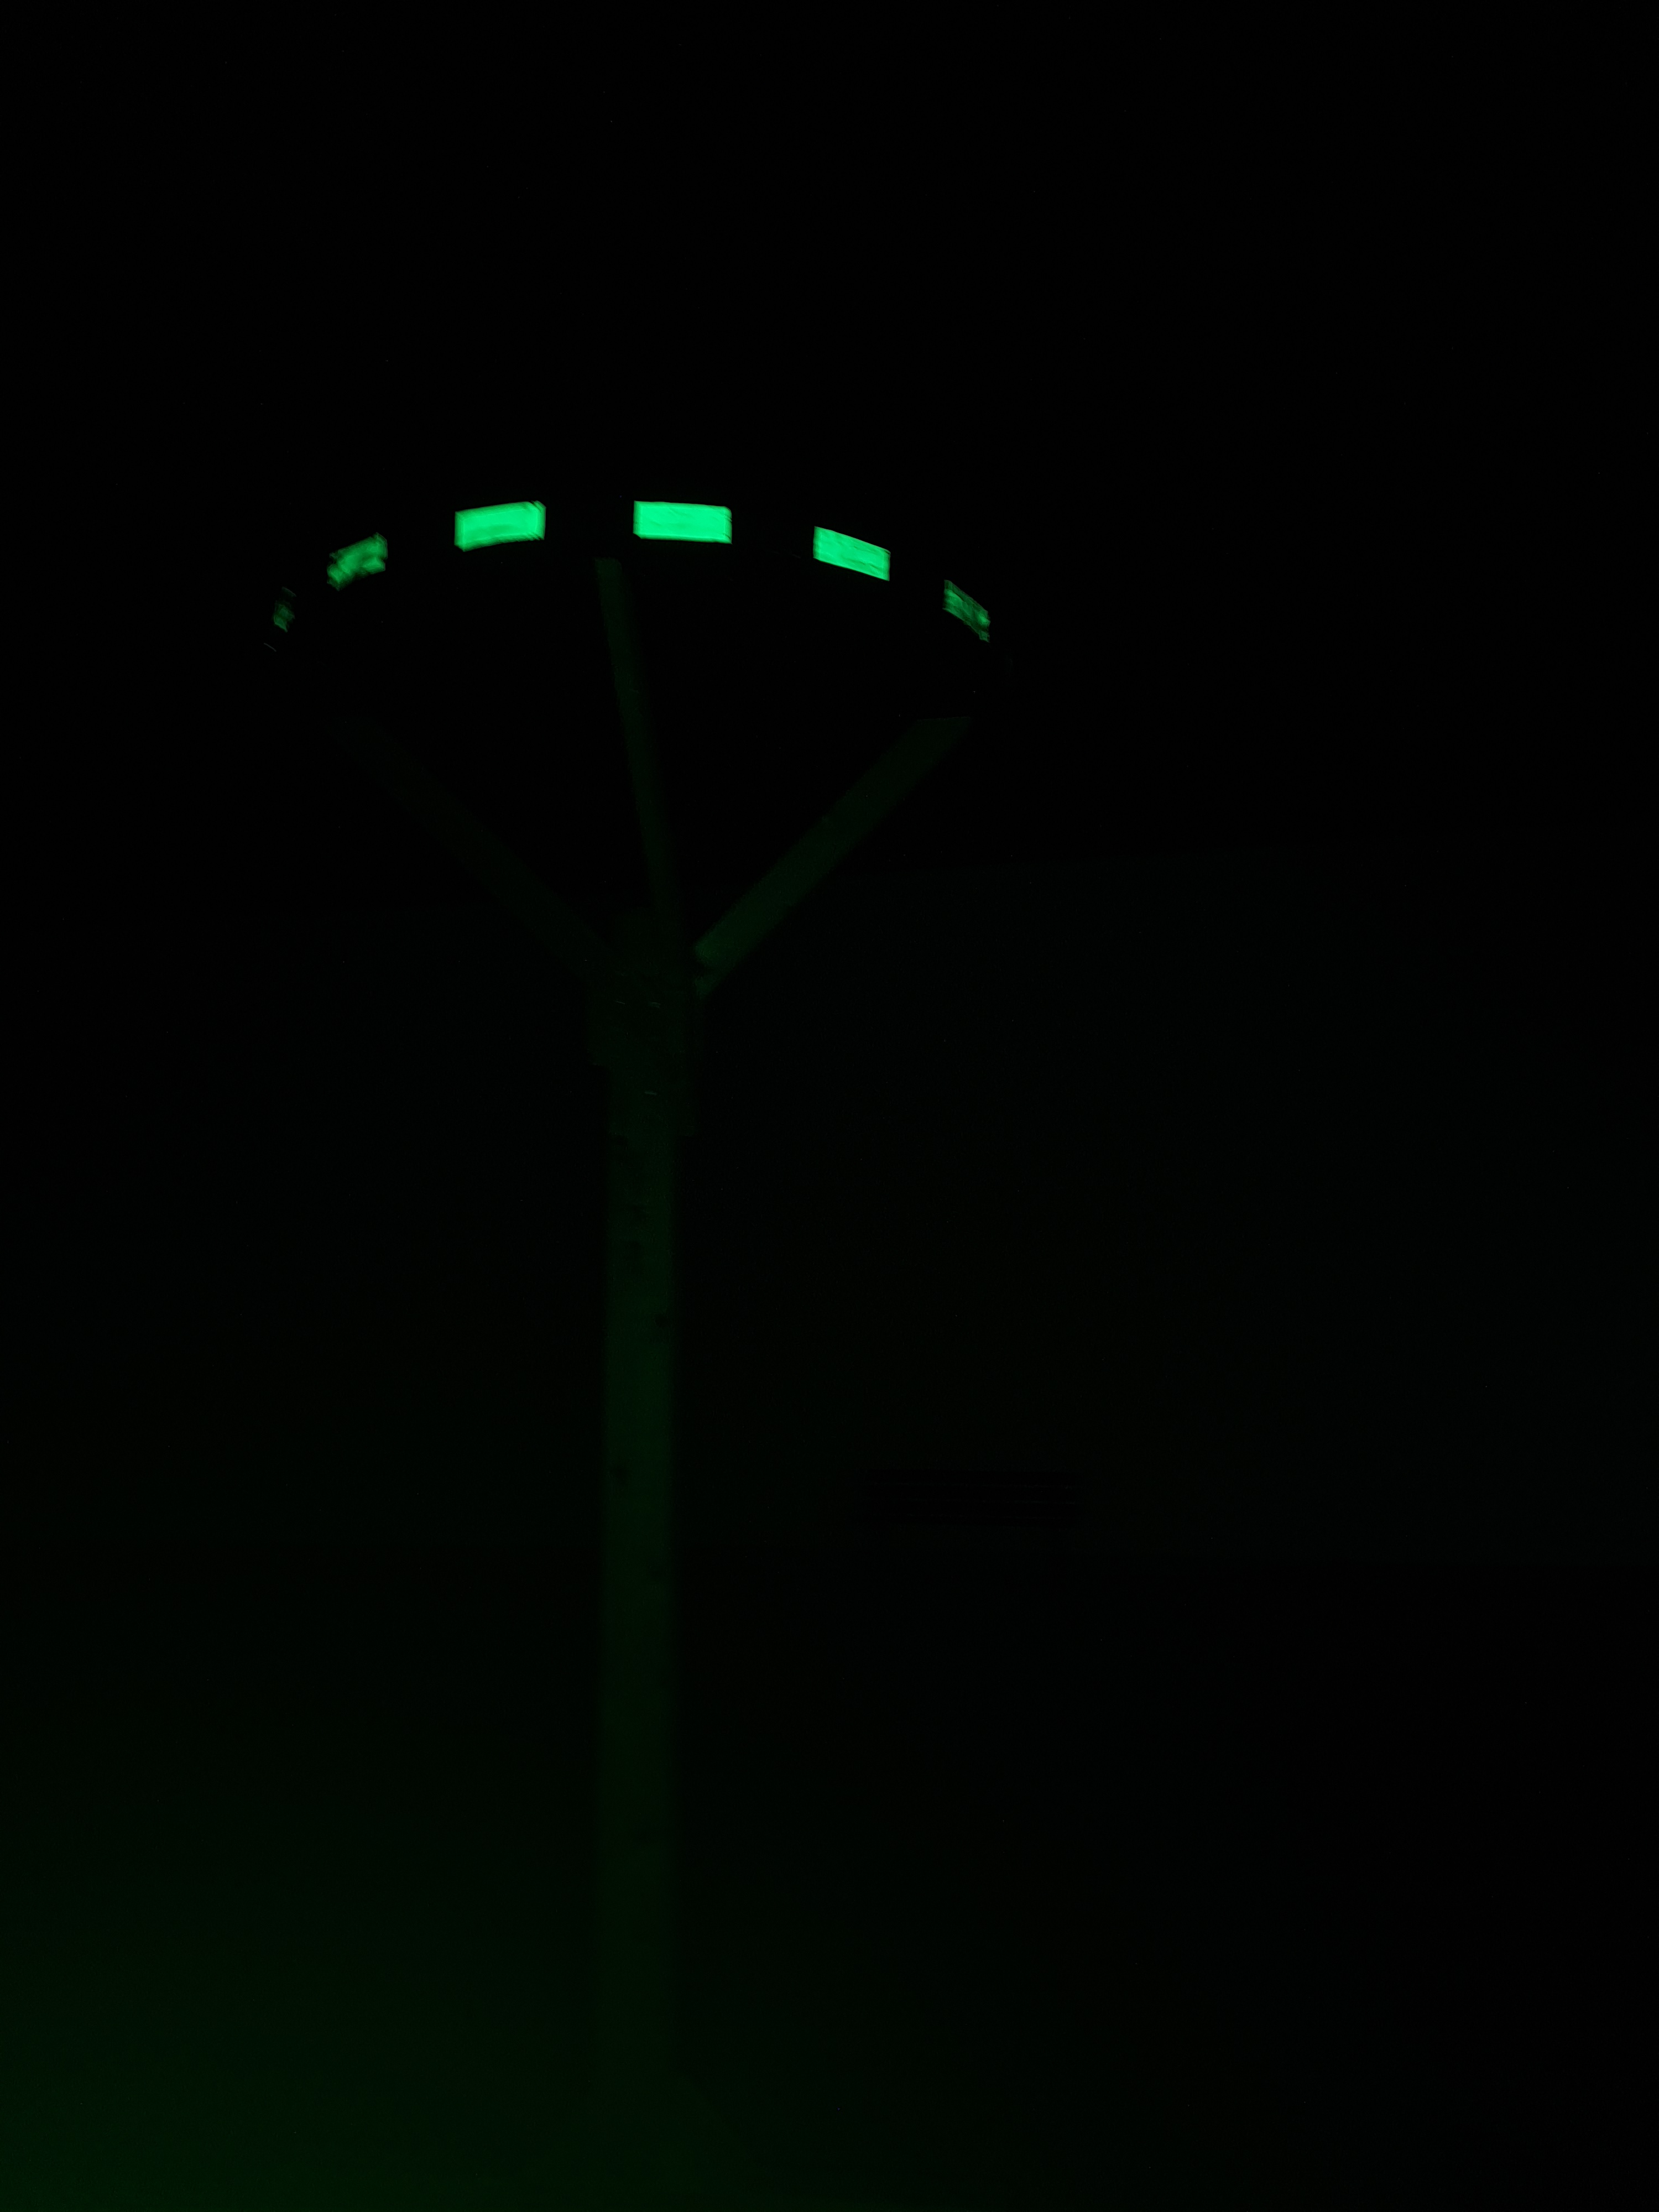hoop: (331, 498, 990, 641)
